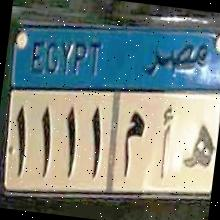1: (56, 100, 84, 184), (31, 100, 60, 180), (82, 101, 109, 182), (8, 102, 34, 182)
alif: (154, 104, 178, 180)
haa: (179, 115, 220, 178)
meem: (116, 107, 148, 183)
